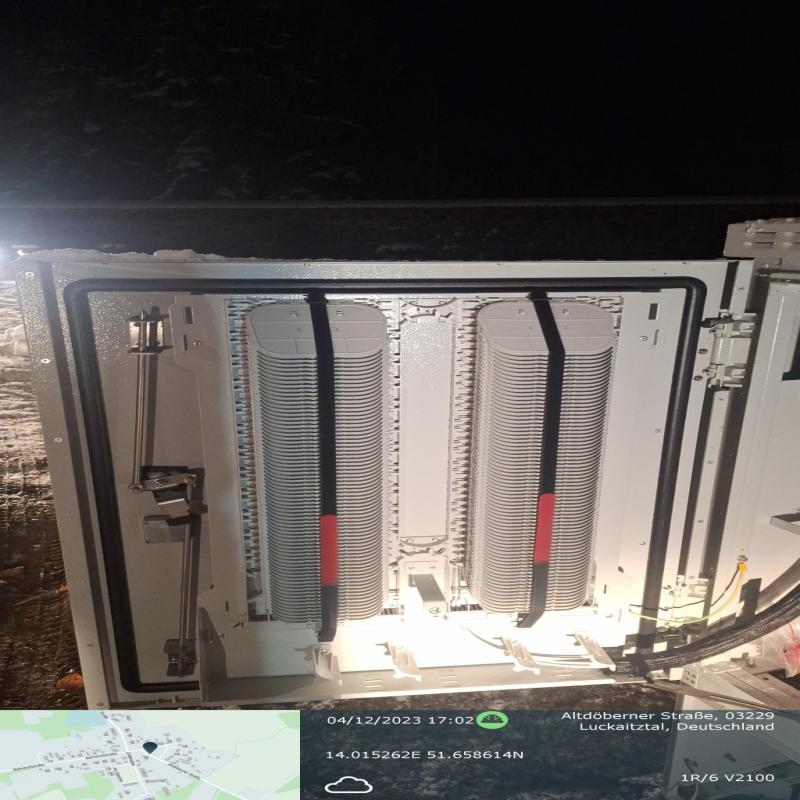NT-Gehause: (34, 216, 796, 715)
Spleiskassetten: (224, 298, 617, 626)
